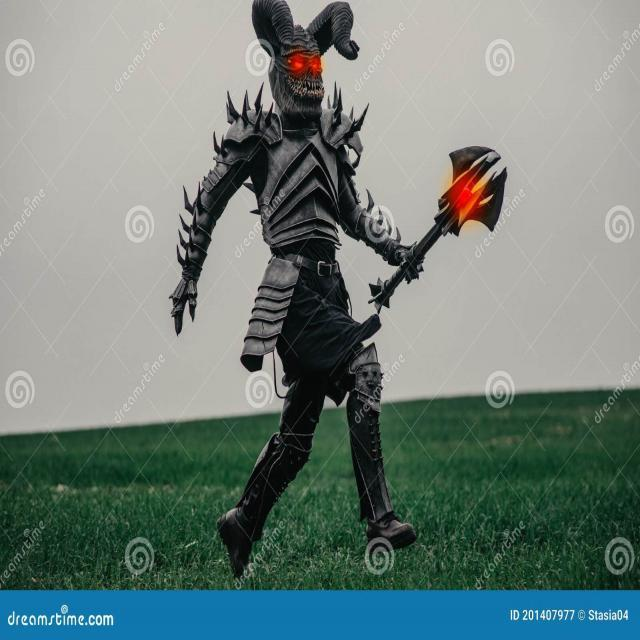mace: (373, 146, 510, 311)
